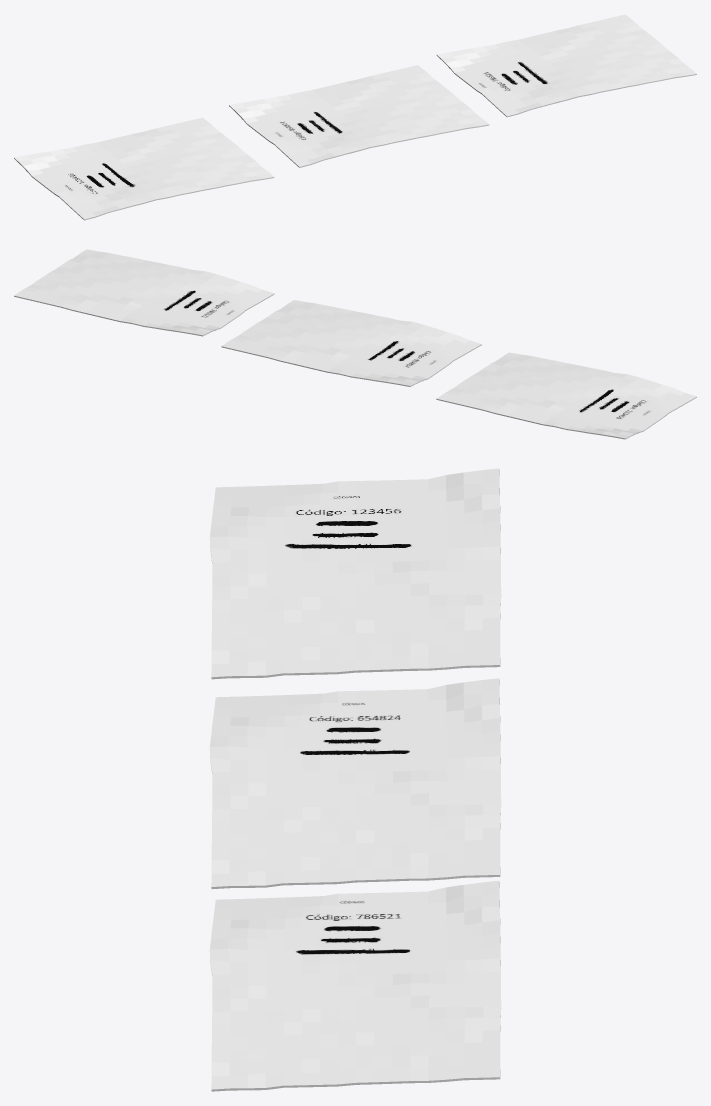
File: PaperCodes.fbx
3 renders of one model, top to bottom at view 1: azimuth 30°, elevation 25°; view 2: azimuth 150°, elevation 25°; view 3: azimuth 270°, elevation 25°, orthographic. The views are drawn at different scales.
Visible parts, largest first — view 1: Papel3, Papel2, Papel1; view 2: Papel1, Papel2, Papel3; view 3: Papel2, Papel3, Papel1.
Boxes of the visible parts, x1,y1,x2,y2 form: Papel3: (14, 117, 274, 220); Papel2: (436, 14, 696, 117); Papel1: (229, 65, 489, 167); Papel1: (221, 300, 481, 386); Papel2: (14, 249, 274, 336); Papel3: (436, 352, 696, 439); Papel2: (209, 880, 501, 1091); Papel3: (209, 468, 501, 679); Papel1: (209, 678, 501, 889).
Bounding box in the file's own units: 25.93 × 0.5536 × 5.35.
Materials: 3 (3 with a texture image).
